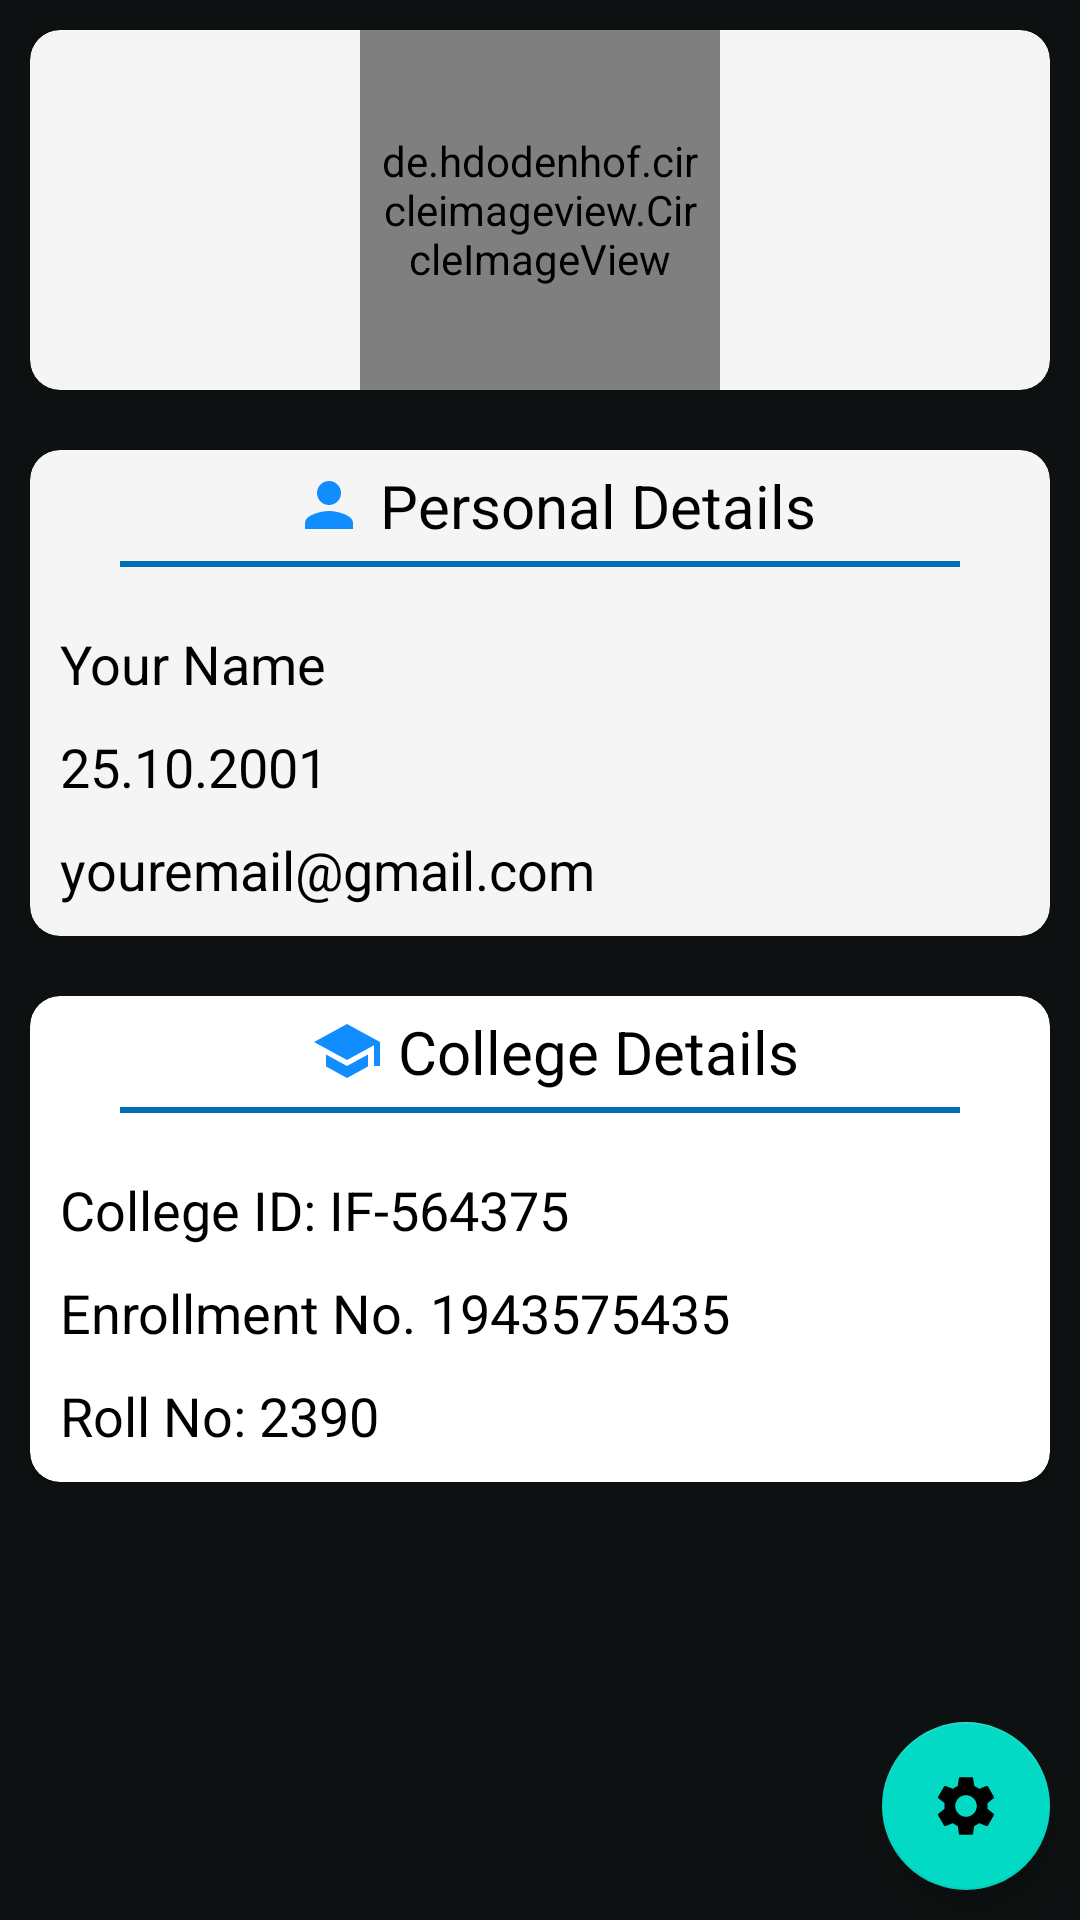

Screen size 1080×1920. Icon name, then its center in pixels as [x,y]:
settings: [966,1806]
